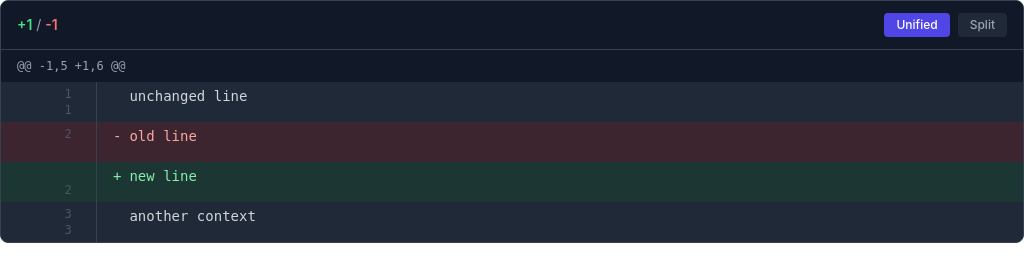
Scenario: DiffViewer › mode toggle › switches from unified to split when Split button is clicked
Click the button "Split" at (982, 25), box [958,13,1007,37]
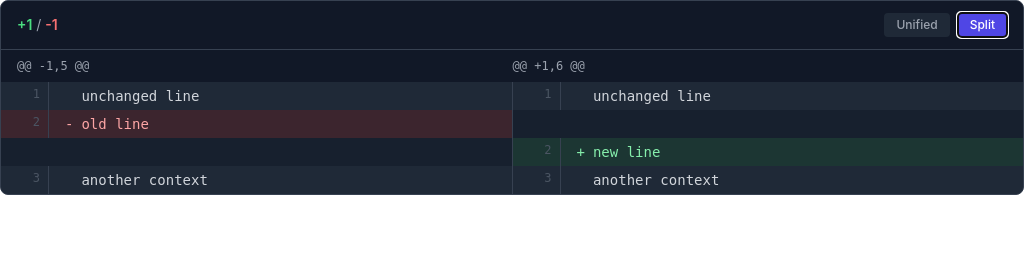
Check: the element with class "grid-cols-2" showing "@@ -1,5 @@ @@ +1,6 @@" is shown, box [1,50,1023,82]
